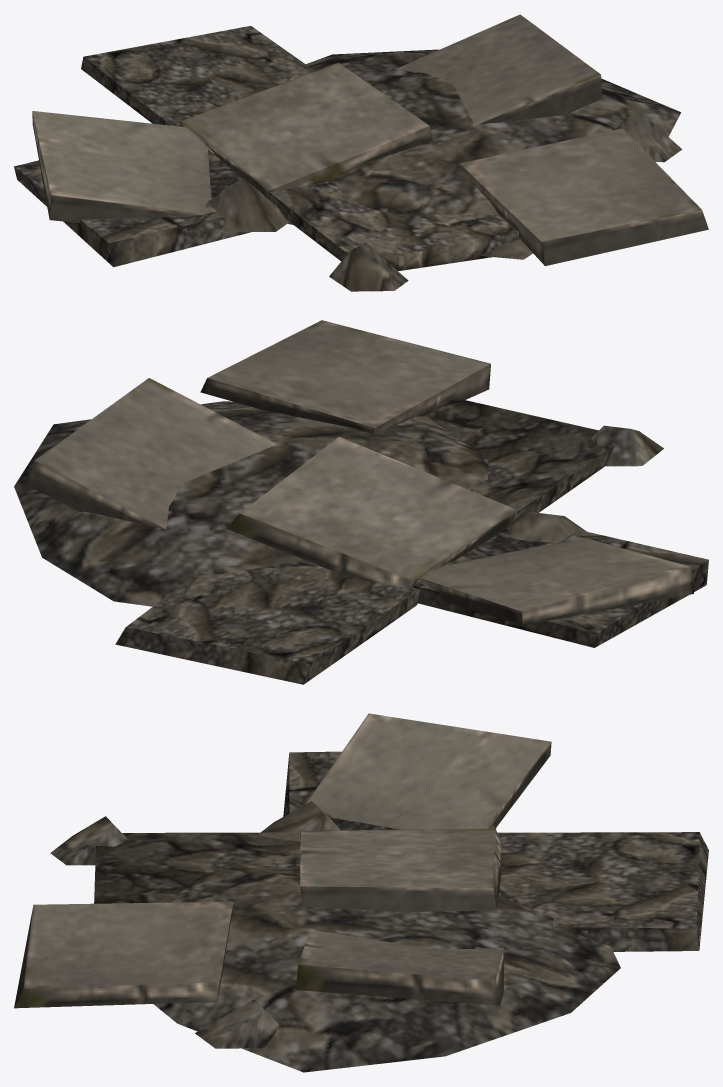
Rendered from SM_EN_2005_suishi02.FBX.
The picture shows the model from 3 angles, top to bottom: view 1: azimuth 30°, elevation 25°; view 2: azimuth 150°, elevation 25°; view 3: azimuth 270°, elevation 25°; orthographic projection. The views are drawn at different scales.
Parts seen in each view (by area): view 1: SM_EN_2005_suishi02; view 2: SM_EN_2005_suishi02; view 3: SM_EN_2005_suishi02.
Boxes of the visible parts, <box> form: SM_EN_2005_suishi02: <box>14,14,708,291</box>; SM_EN_2005_suishi02: <box>14,320,708,684</box>; SM_EN_2005_suishi02: <box>14,713,708,1072</box>.
Size of the model in its own units: 125 by 13.59 by 116.
